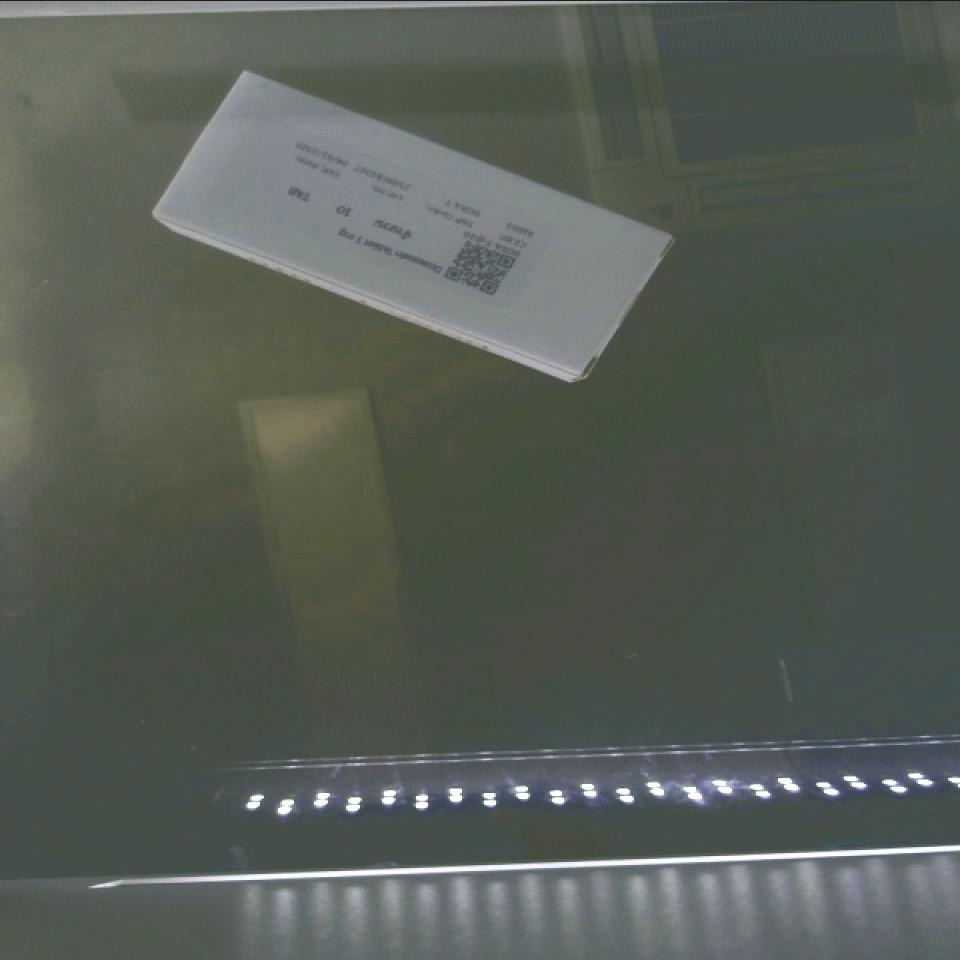medicine_box: (158, 59, 673, 395)
qr_code: (429, 216, 542, 318)
